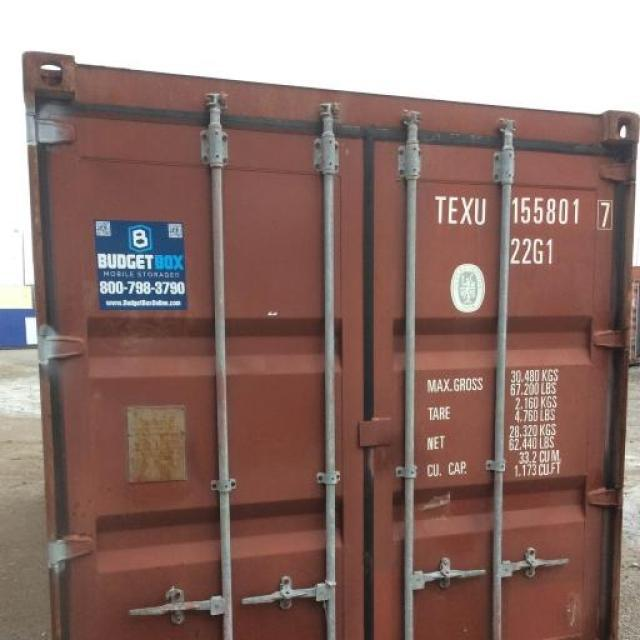ISO: (509, 236, 555, 267)
container_number: (436, 197, 606, 226)
